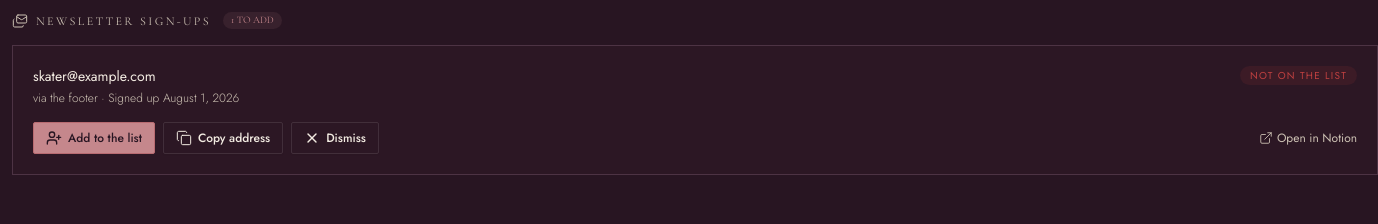
StudioNewsletter › shows the server's reason when an add is refused
Step 1. Click the button with test id "signup-add-sign-1" → (94, 138), box [33,122,155,154]
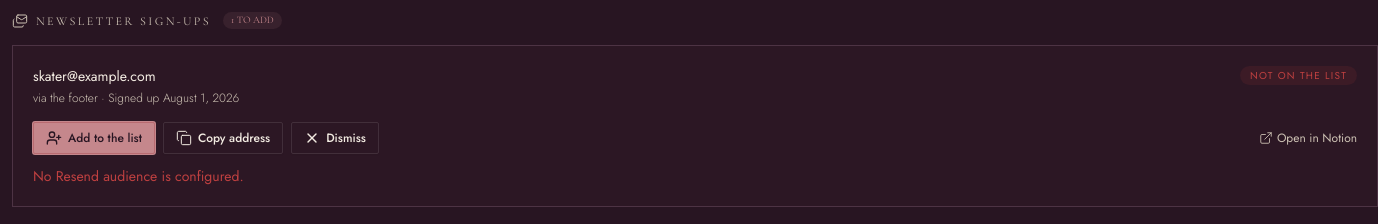
Check: the text with test id "signup-error-sign-1" reads "No Resend audience is configured.", box [33,166,244,186]
